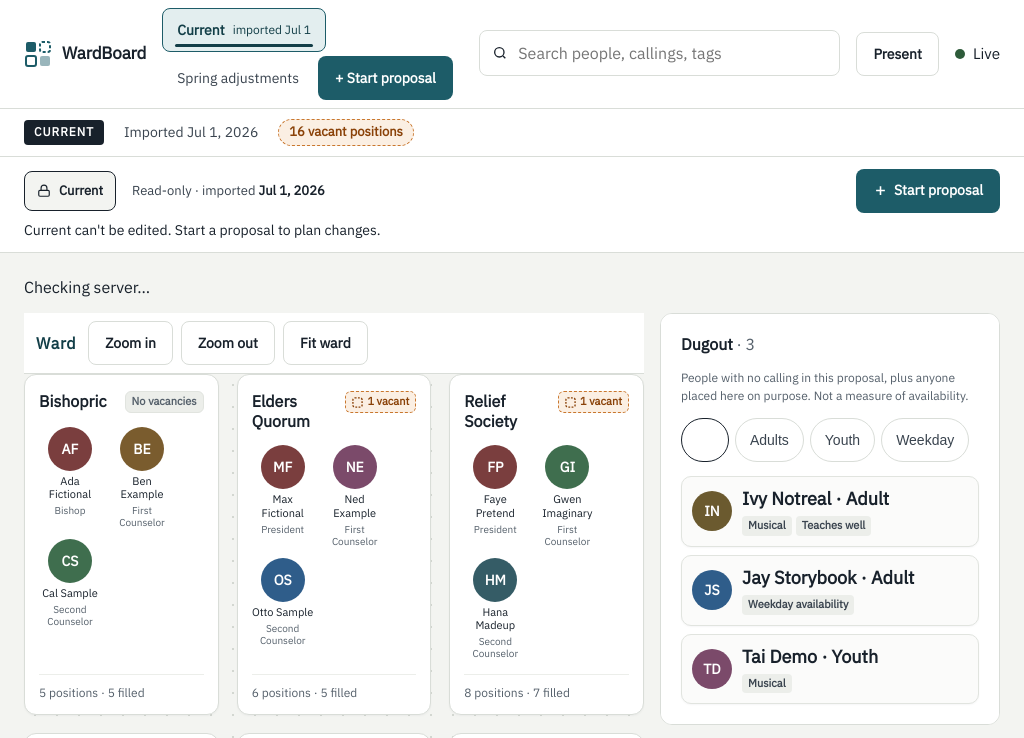
Test: person-panel › a refused save shows the server message and keeps the dialog
The image size is (1024, 738).
Click the tab "Spring adjustments" at (238,78), box left=162, top=56, right=314, bottom=100
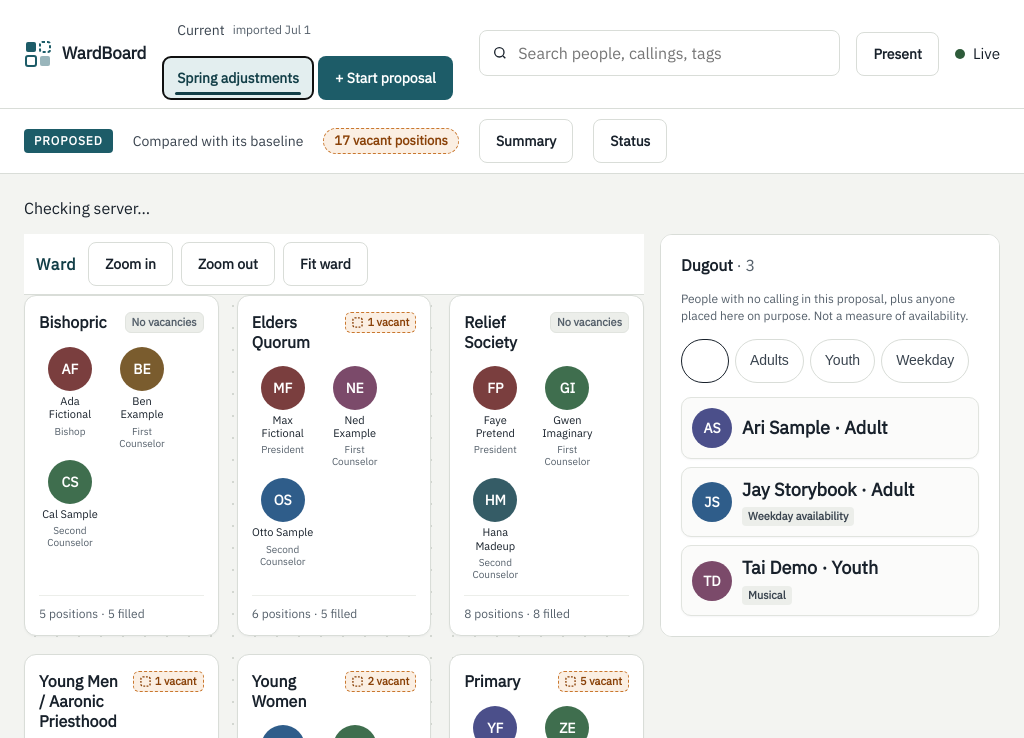
Double-click the text "Jay Storybook · Adult" at (828,489), box left=742, top=478, right=914, bottom=501
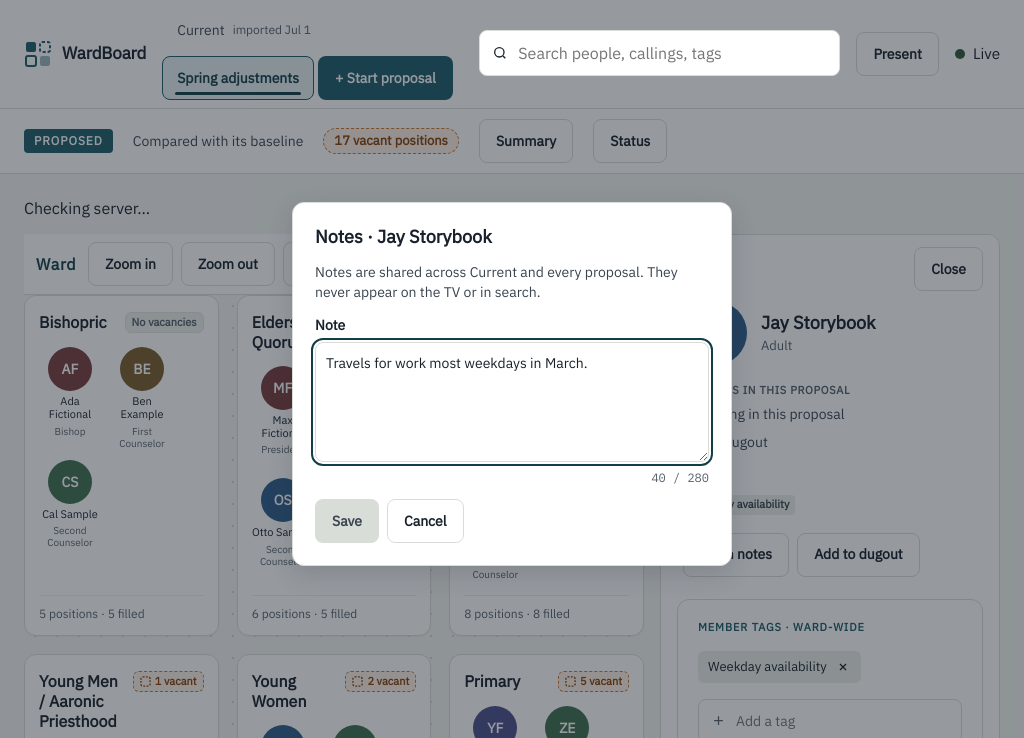
Expected: the dialog "Notes · Jay Storybook" is shown, left=292, top=202, right=732, bottom=566
Type " extra note" into the text box labelled "Note" at (512,402), box left=315, top=342, right=709, bottom=462
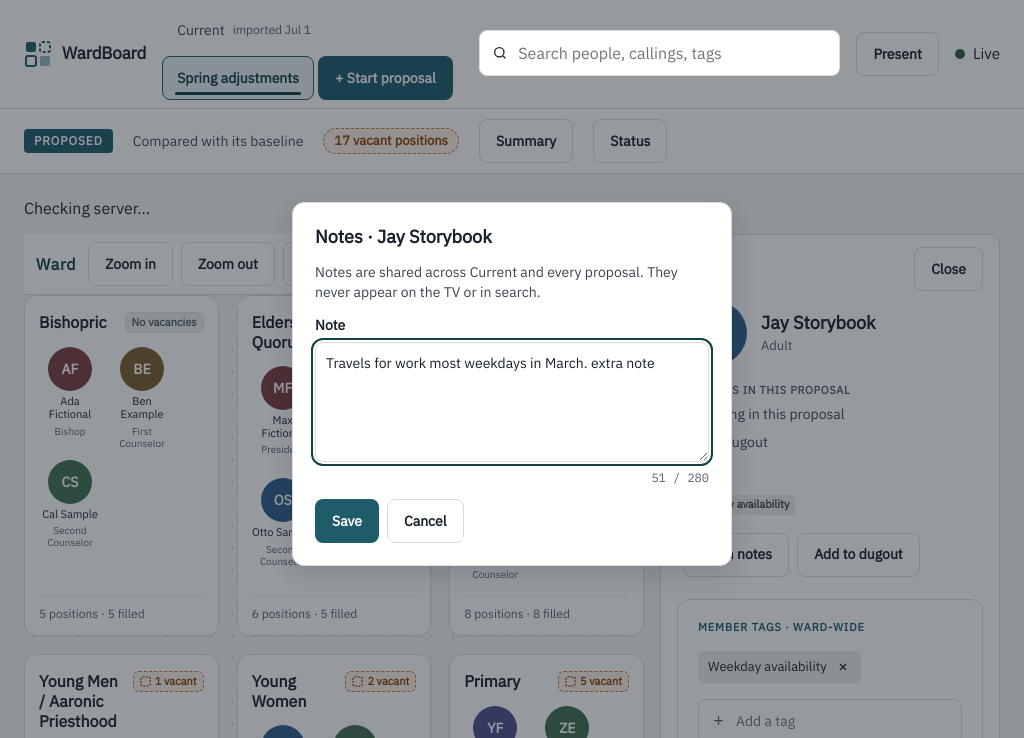
Click the button "Save" at (347,522), box left=315, top=500, right=379, bottom=544
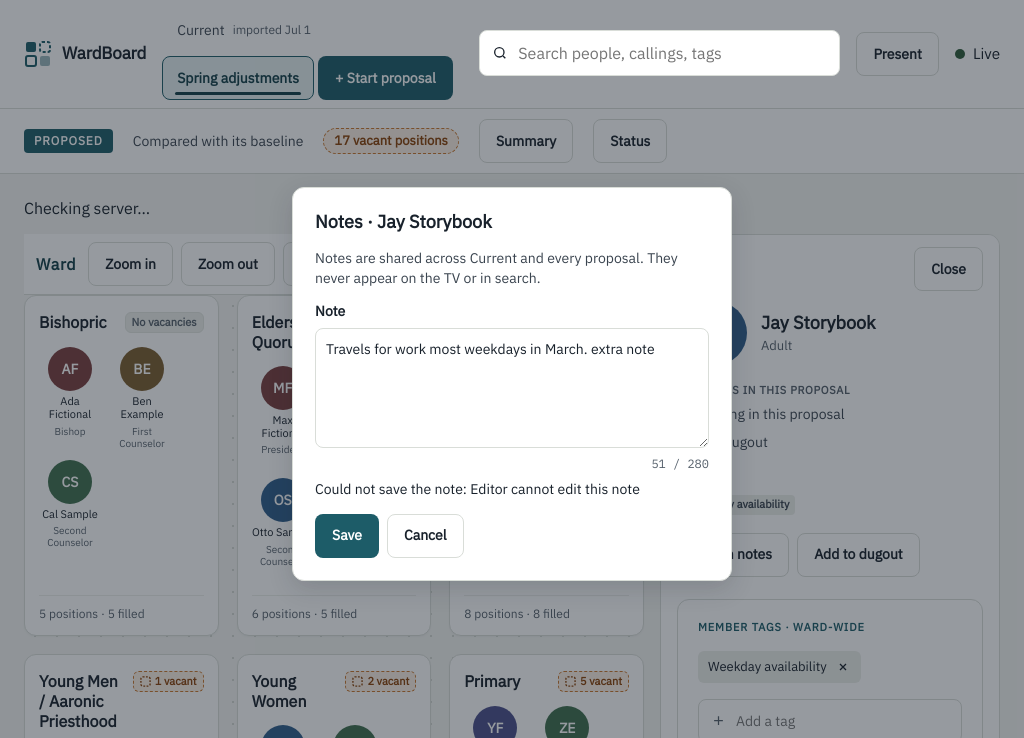
Expected: the dialog is shown, left=292, top=187, right=732, bottom=581
Expected: the message "Could not save the note: Editor cannot edit this note" is shown, left=315, top=480, right=640, bottom=498
